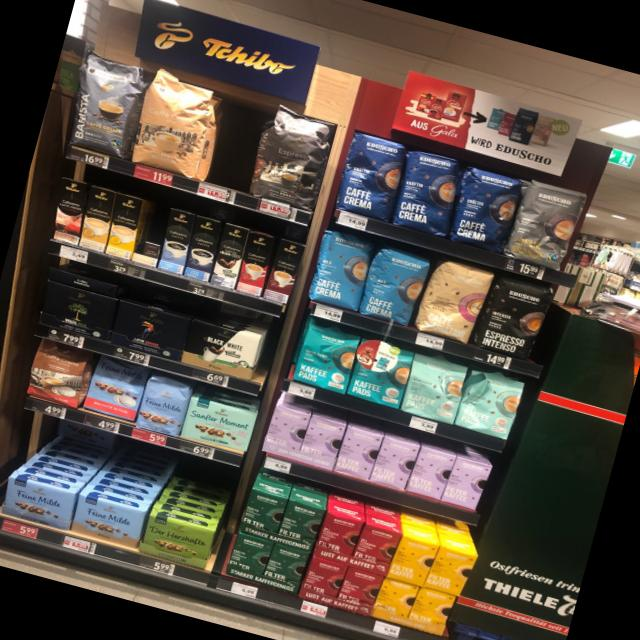BM Gemahlen: (36, 278, 120, 344)
BW Gemahlen: (176, 314, 263, 382)
Barista CC: (57, 48, 151, 160)
CC Mild: (120, 62, 230, 185)
CC Vollmundig: (20, 336, 96, 411)
Empty Shelf: (128, 198, 172, 268)
Espresso Aromatisch: (237, 98, 343, 216)
FM 36 Pads: (80, 352, 150, 423)
FM Bohne: (132, 371, 193, 438)
FM Gemahlen: (67, 490, 149, 550), (0, 473, 80, 532)
Herzhatfe Mundig: (136, 509, 218, 572)
LG Gemahlen: (108, 298, 192, 361)
SM Gemahlen: (180, 393, 258, 454)
Simo CC Colombia: (45, 176, 93, 246)
Simo CCMild bigpack: (102, 192, 148, 262)
Simo Decaff: (72, 184, 121, 254)
Simo Es Elegant: (234, 228, 278, 298)
Simo Es Kraft: (262, 236, 304, 306)
Simo Kaffee BW: (206, 222, 251, 291)
Simo Kaffee Kraft: (180, 213, 224, 283)
Simo Kaffee Mild: (154, 206, 200, 276)
